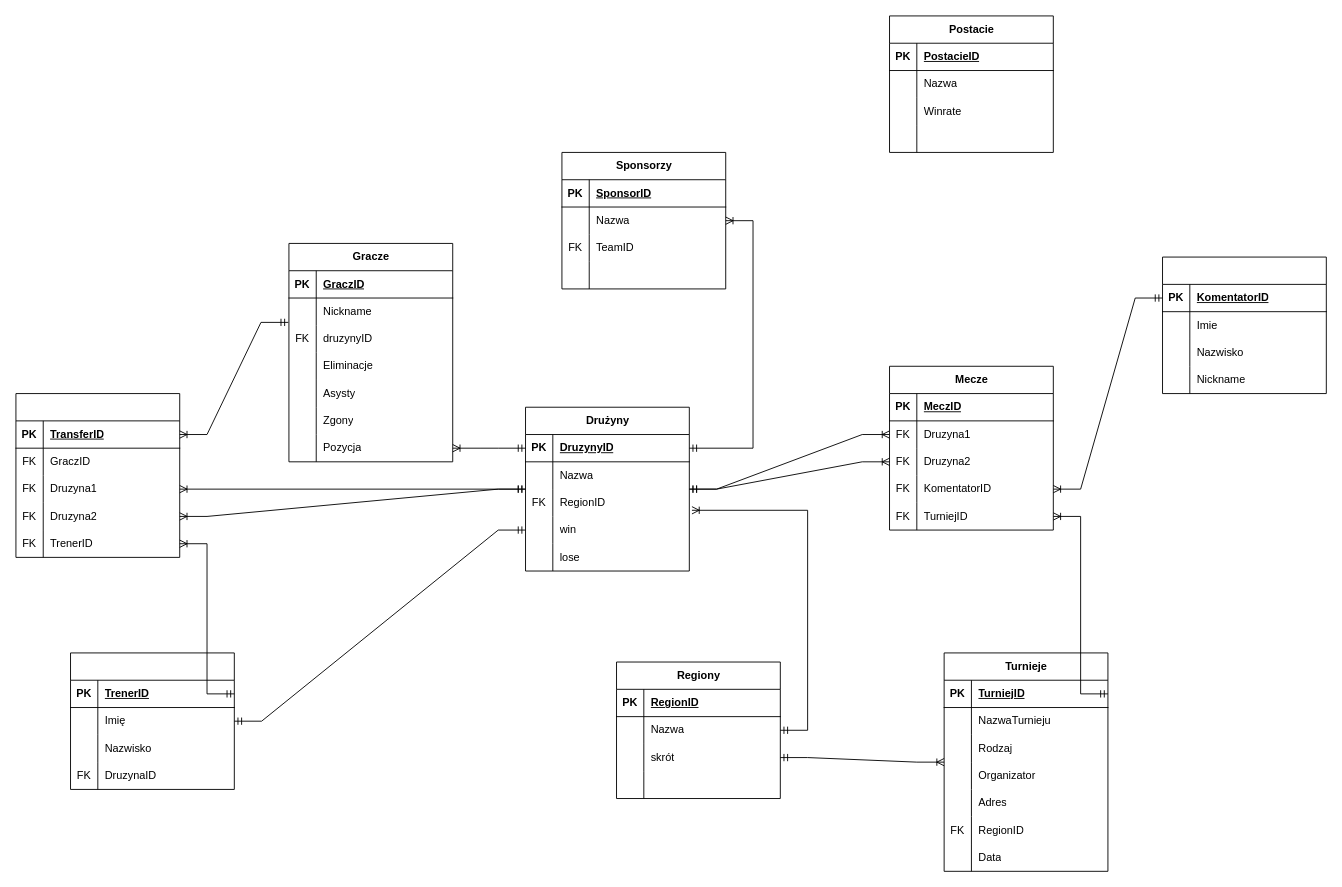
The diagram is 1342 pixels wide and 887 high, and some of its shapes have lost their labels. Here are the shapes that lost their labels. From the top down, the box of each, then its label:
(1162, 256, 1326, 394): Komentatorzy
(15, 393, 180, 557): Transfery
(70, 652, 234, 789): Trenerzy
